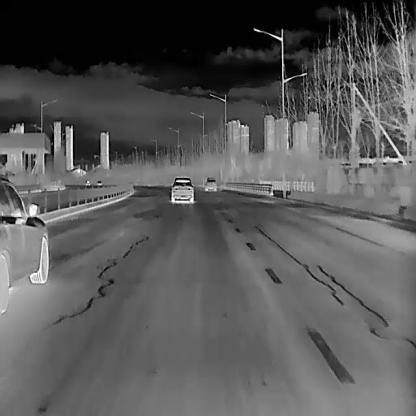car: (0, 173, 48, 311), (169, 176, 193, 203), (204, 176, 217, 190), (95, 180, 101, 185), (84, 180, 89, 185)
